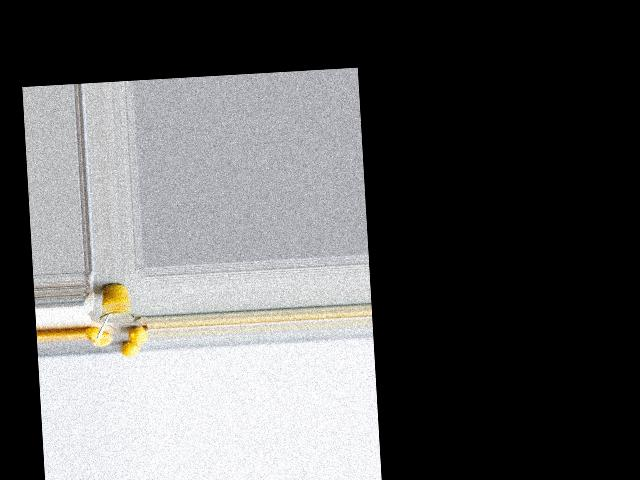lemon: (121, 343, 143, 359)
